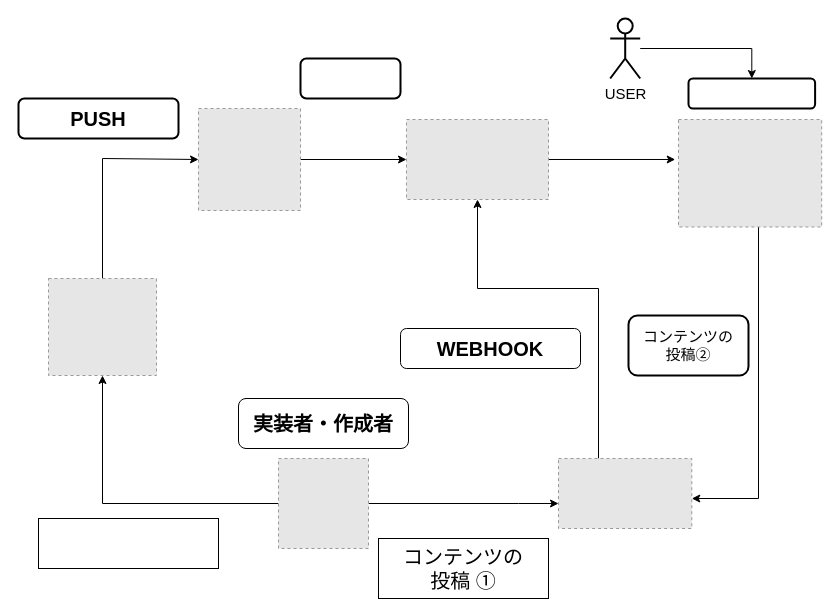
Some shapes in this 839 by 616 pixel diagram are drawn without their labels. Grey dashed boxes stand in for pictures. Each missing label, with the centre of its shape:
"deploy" belongs at (350,78).
"サイト訪問" belongs at (751,93).
"表示部分の作成" belongs at (128,543).
